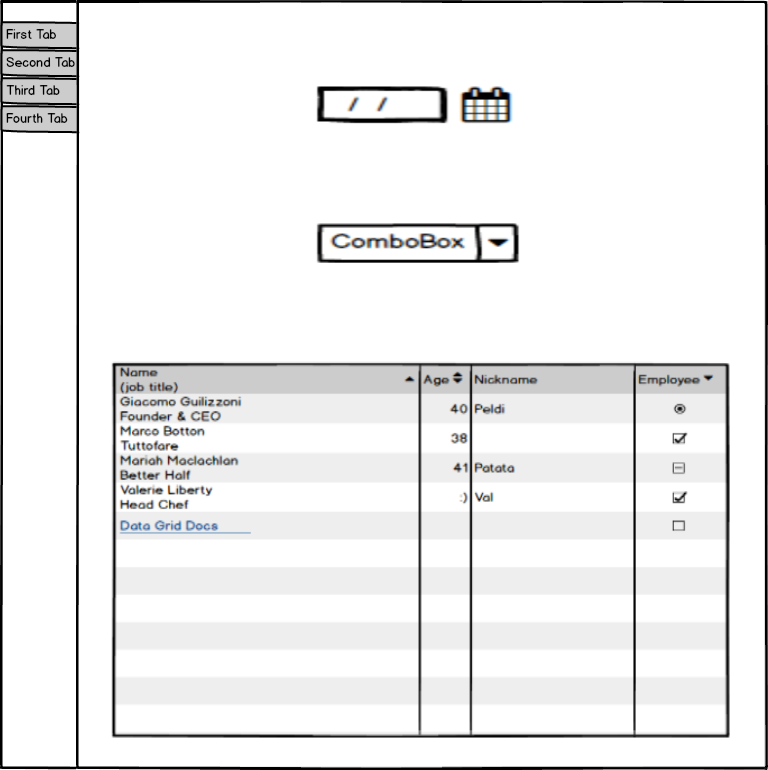date_picker: (305, 74, 525, 134)
select_box: (312, 217, 527, 270)
sidebar: (2, 15, 84, 137)
table: (103, 354, 744, 744)
